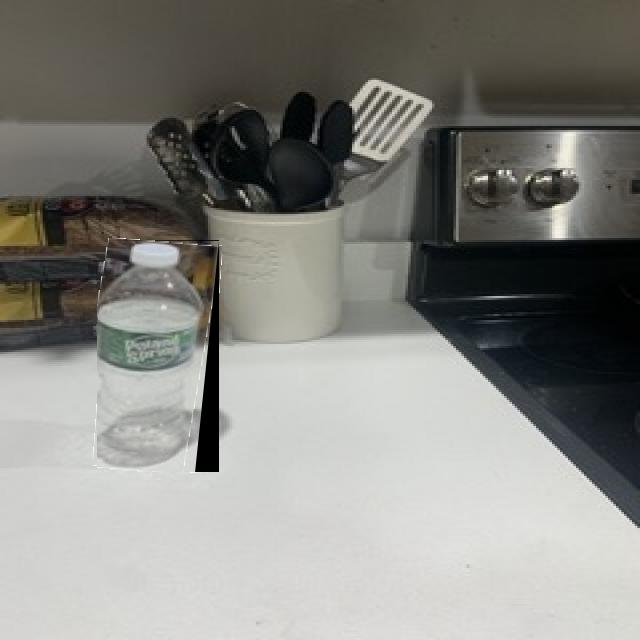water_bottle: (97, 240, 219, 472)
